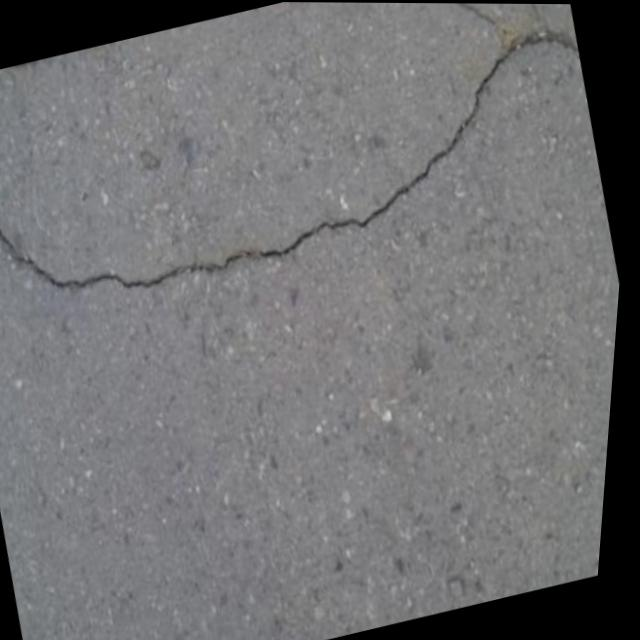Crack: (0, 0, 617, 348)
